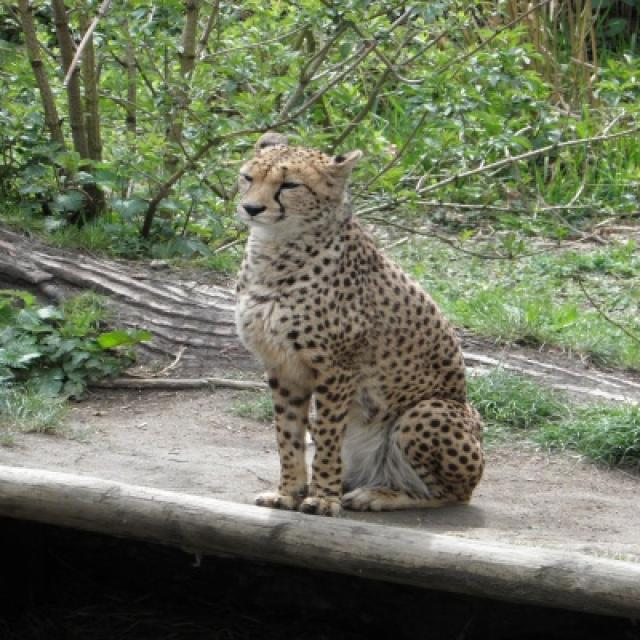Cheetah: (232, 134, 485, 515)
